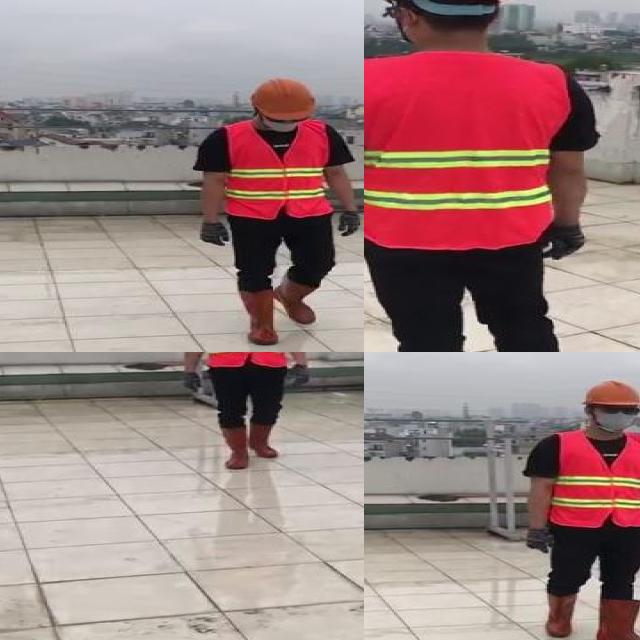boots: (232, 287, 280, 345), (274, 272, 316, 325), (596, 600, 640, 640), (543, 589, 577, 639), (220, 425, 250, 469), (246, 422, 278, 458)
face_mask: (590, 403, 640, 431)
glasses: (595, 402, 640, 416)
hand_glove: (543, 221, 589, 260), (522, 526, 554, 550), (284, 365, 314, 387), (335, 212, 360, 238), (198, 223, 228, 244), (184, 370, 202, 393)
head_helmet: (246, 76, 316, 122), (578, 378, 640, 406)
person: (364, 0, 615, 352), (189, 73, 364, 348), (516, 374, 640, 640), (171, 352, 315, 471)
vest: (364, 52, 562, 249), (222, 121, 332, 219), (552, 429, 640, 528), (203, 352, 288, 369)
